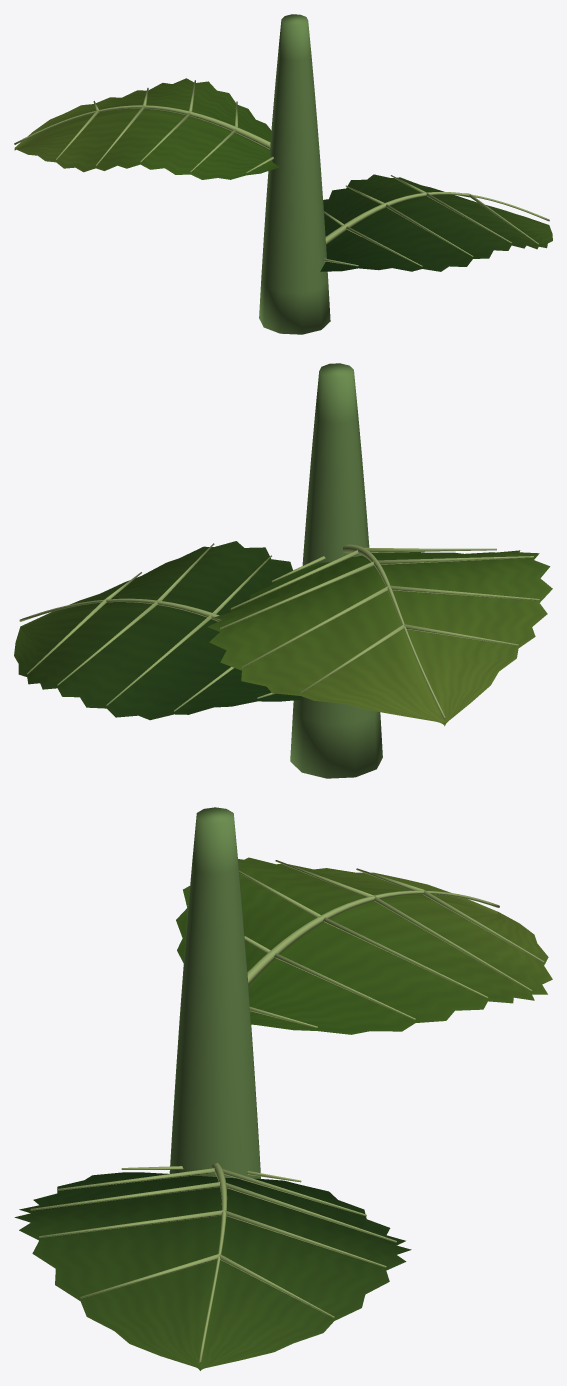
Rendered from hydrangea-01.glb.
3 views of the same model, one above another, from view 1: azimuth 30°, elevation 25°; view 2: azimuth 150°, elevation 25°; view 3: azimuth 270°, elevation 25° (orthographic). The views are drawn at different scales.
Visible parts, largest first — view 1: hydrangea_stage_01_stem_fibres, hydrangea_stage_01_young_leaf, hydrangea_stage_01_leaf_veins, hydrangea_stage_01_raised_midveins; view 2: hydrangea_stage_01_young_leaf, hydrangea_stage_01_leaf_veins, hydrangea_stage_01_stem_fibres, hydrangea_stage_01_raised_midveins; view 3: hydrangea_stage_01_leaf_veins, hydrangea_stage_01_young_leaf, hydrangea_stage_01_stem_fibres, hydrangea_stage_01_raised_midveins.
Boxes of the visible parts, bbox=[...] form: hydrangea_stage_01_stem_fibres: bbox=[259, 14, 330, 334]; hydrangea_stage_01_young_leaf: bbox=[14, 78, 279, 179]; hydrangea_stage_01_leaf_veins: bbox=[320, 174, 552, 271]; hydrangea_stage_01_raised_midveins: bbox=[14, 80, 549, 266]; hydrangea_stage_01_young_leaf: bbox=[207, 550, 552, 726]; hydrangea_stage_01_leaf_veins: bbox=[14, 541, 302, 720]; hydrangea_stage_01_stem_fibres: bbox=[290, 363, 382, 778]; hydrangea_stage_01_raised_midveins: bbox=[19, 543, 539, 718]; hydrangea_stage_01_leaf_veins: bbox=[14, 1172, 411, 1370]; hydrangea_stage_01_young_leaf: bbox=[176, 857, 552, 1034]; hydrangea_stage_01_stem_fibres: bbox=[169, 807, 260, 1178]; hydrangea_stage_01_raised_midveins: bbox=[30, 860, 544, 1362].
Bounding box in the file's own units: 0.057 × 0.0368 × 0.0416.
4 materials, 2 textured.
